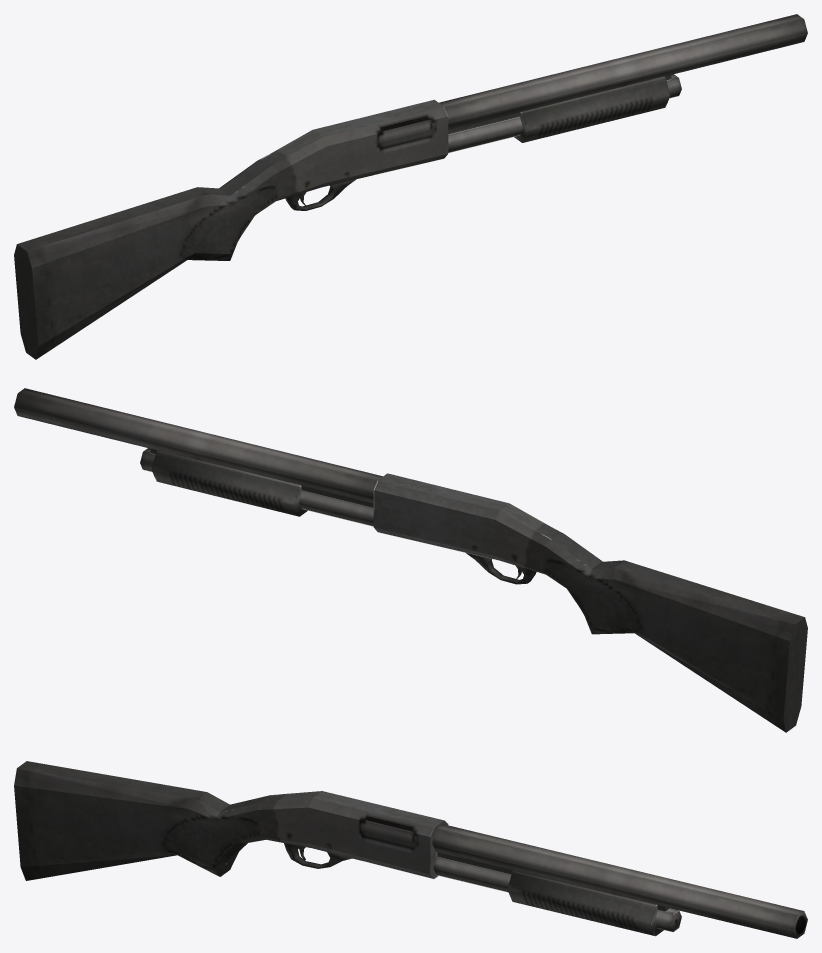
Rendered from Shotgun.fbx.
3 views of the same model, one above another, from view 1: azimuth 30°, elevation 25°; view 2: azimuth 150°, elevation 25°; view 3: azimuth 330°, elevation 25° (orthographic).
Parts seen in each view (by area): view 1: Shotgun, Barrel.001, Forend.001, Magazine Tube.001, Trigger Guard.001; view 2: Shotgun, Barrel.001, Forend.001, Magazine Tube.001; view 3: Shotgun, Barrel.001, Forend.001, Magazine Tube.001, Trigger Guard.001.
Part boxes in pixels (box(x1,y1,x2,y2)): Shotgun: box(14, 99, 448, 359); Barrel.001: box(439, 14, 807, 129); Forend.001: box(514, 76, 670, 142); Magazine Tube.001: box(448, 74, 681, 152); Trigger Guard.001: box(285, 179, 355, 210); Shotgun: box(373, 473, 807, 732); Barrel.001: box(14, 388, 382, 503); Forend.001: box(151, 450, 307, 516); Magazine Tube.001: box(140, 448, 373, 526); Shotgun: box(14, 761, 448, 880); Barrel.001: box(432, 824, 807, 938); Forend.001: box(507, 870, 663, 936); Magazine Tube.001: box(433, 852, 681, 932); Trigger Guard.001: box(284, 843, 351, 868).
Size of the model in its own units: 21.86 by 93.8 by 500.
1 material, 1 textured.
